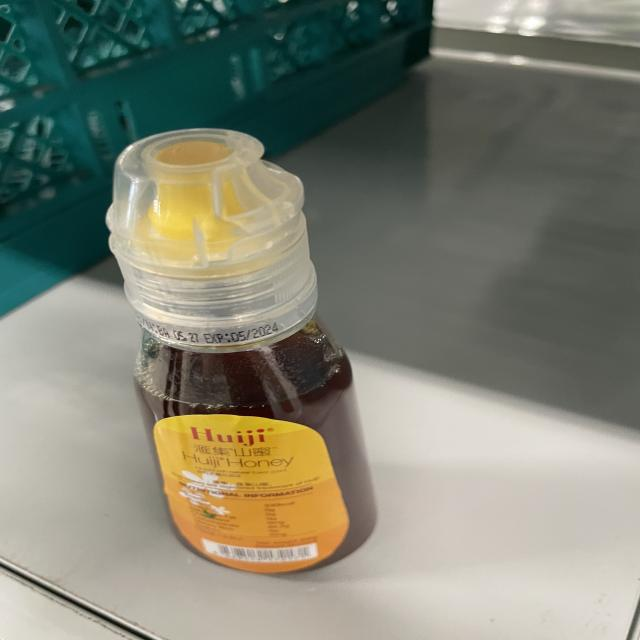object_name: (103, 135, 386, 568)
